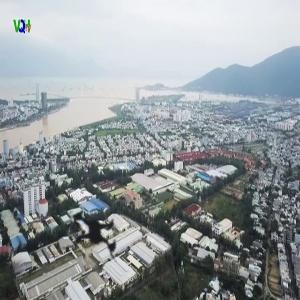drone: (38, 170, 160, 292)
